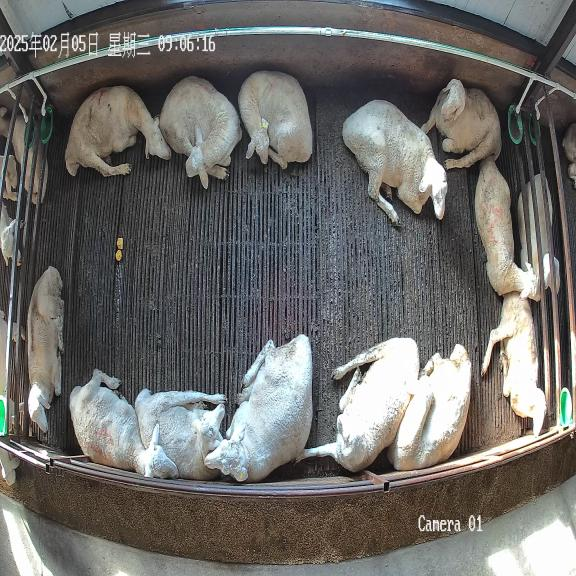lying: (297, 338, 419, 472), (204, 334, 313, 482), (343, 100, 447, 225), (69, 369, 178, 478), (388, 344, 471, 470), (65, 86, 171, 176), (160, 76, 242, 189), (482, 292, 546, 435), (475, 161, 540, 300), (135, 389, 226, 480), (238, 71, 312, 169), (421, 79, 501, 168), (27, 266, 64, 432)
